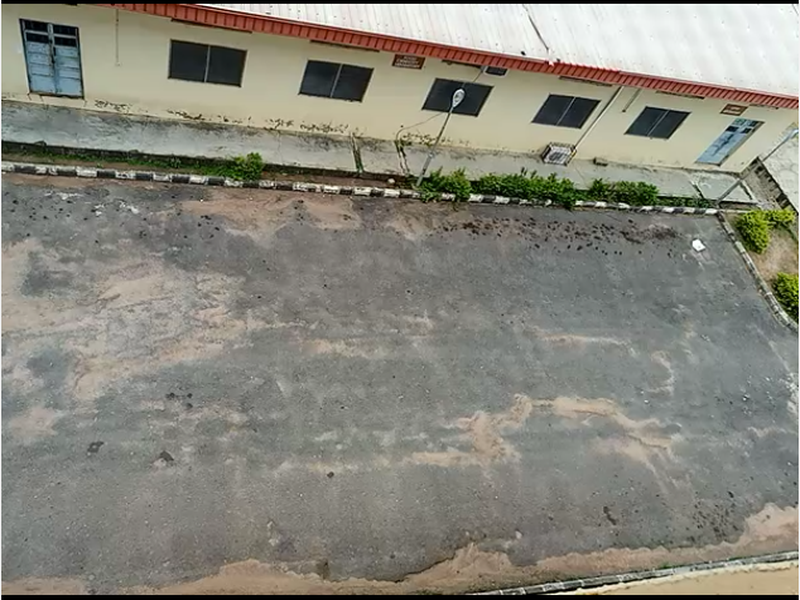five: (637, 183, 789, 336)
four: (477, 176, 597, 339)
one: (1, 142, 107, 344)
three: (317, 170, 432, 343)
two: (139, 158, 265, 345)
